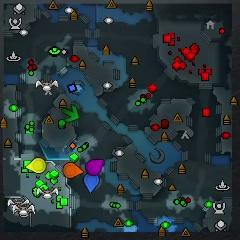p1: (85, 172, 100, 193)
p3: (85, 158, 104, 176)
p4: (27, 158, 46, 173)
p5: (63, 163, 83, 179)
x4: (62, 106, 79, 123)
